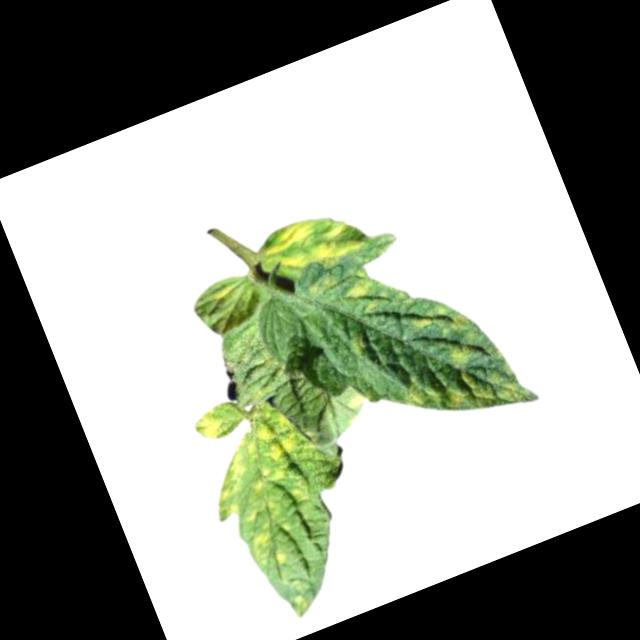Leaf_Mold: (177, 369, 368, 628), (388, 320, 540, 448), (244, 202, 366, 297), (403, 291, 474, 348), (335, 262, 388, 321)
